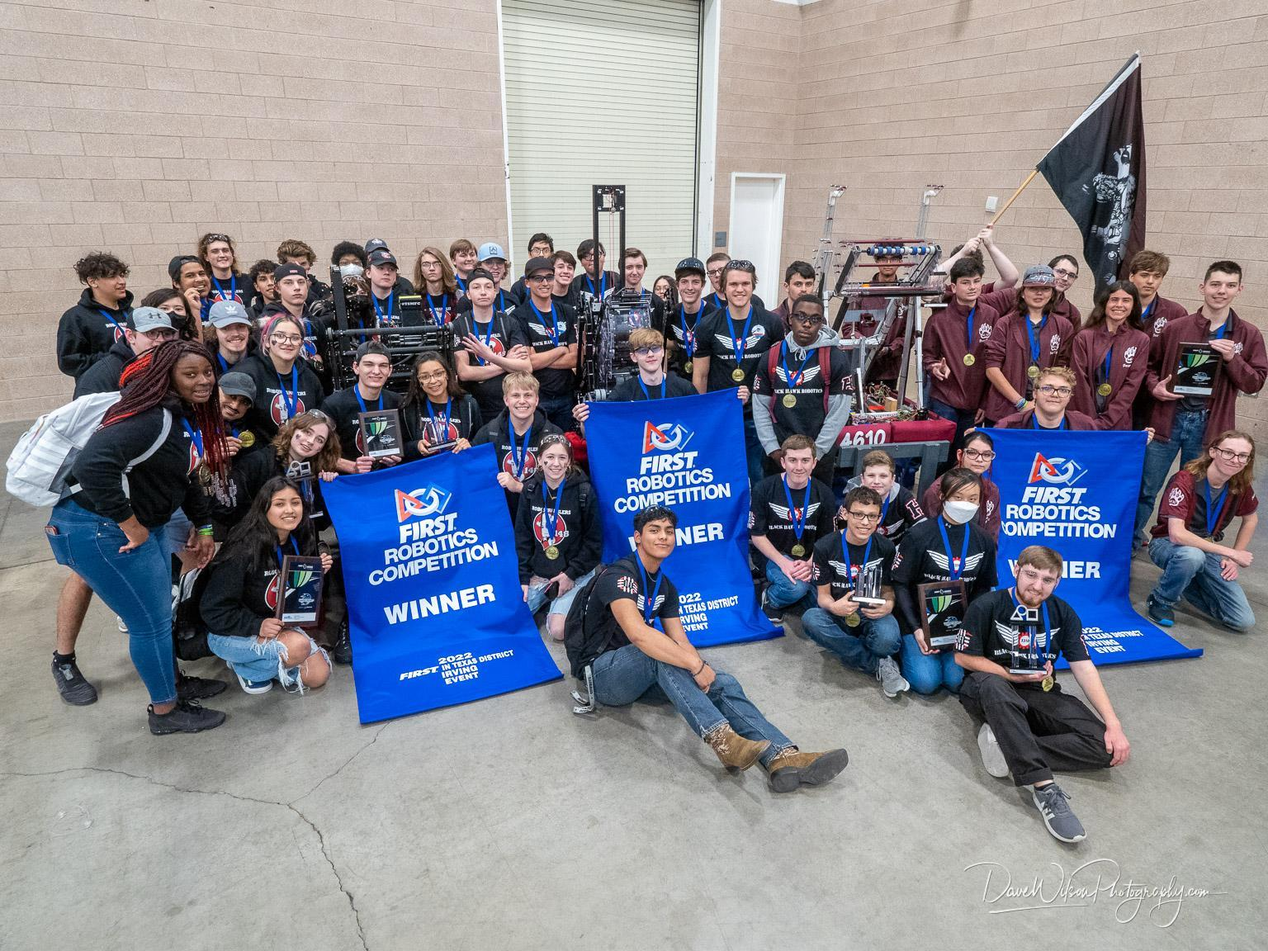robot: (801, 233, 970, 455), (556, 177, 678, 447), (319, 264, 476, 453)
